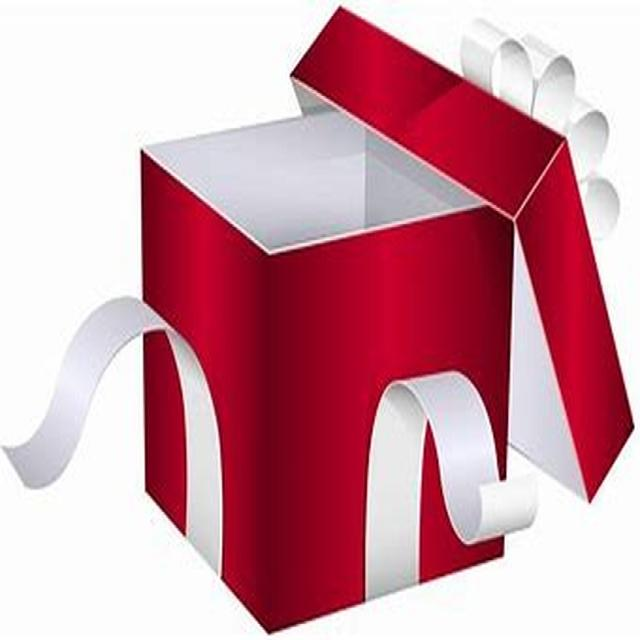box: (108, 57, 546, 637)
